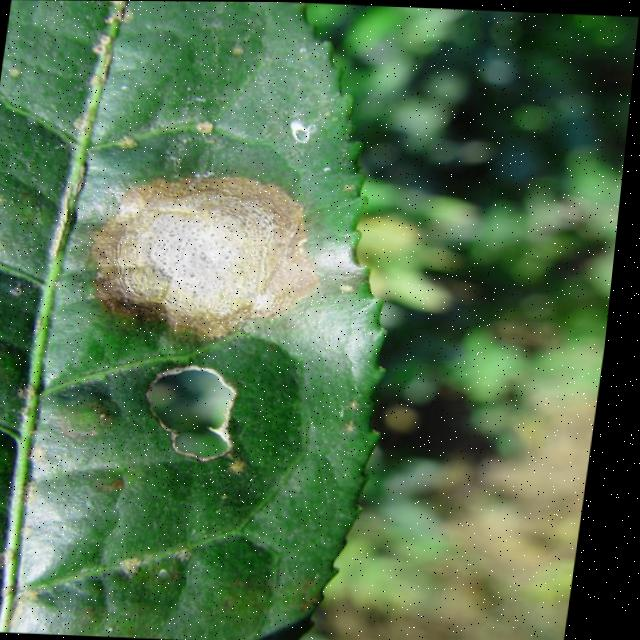Tea cloud leaf blight: (84, 171, 324, 344)
